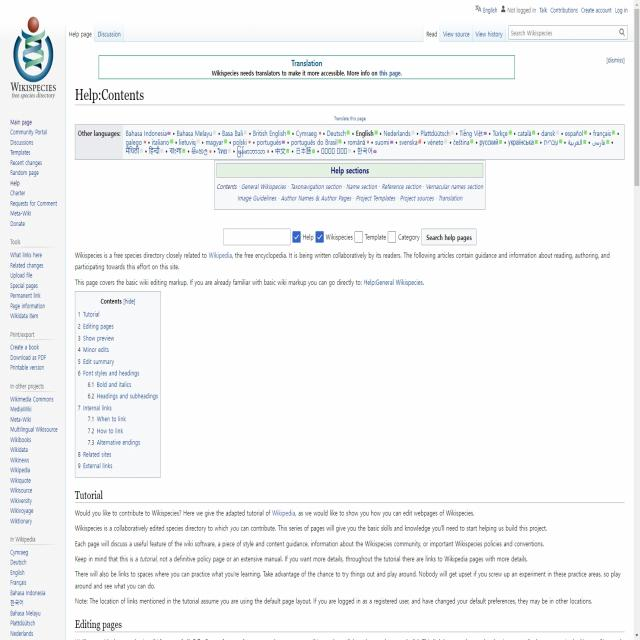content: (74, 289, 161, 478)
menu-bar: (422, 24, 506, 42), (538, 2, 629, 18), (66, 23, 124, 41)
search: (219, 221, 478, 249), (507, 23, 628, 38)
